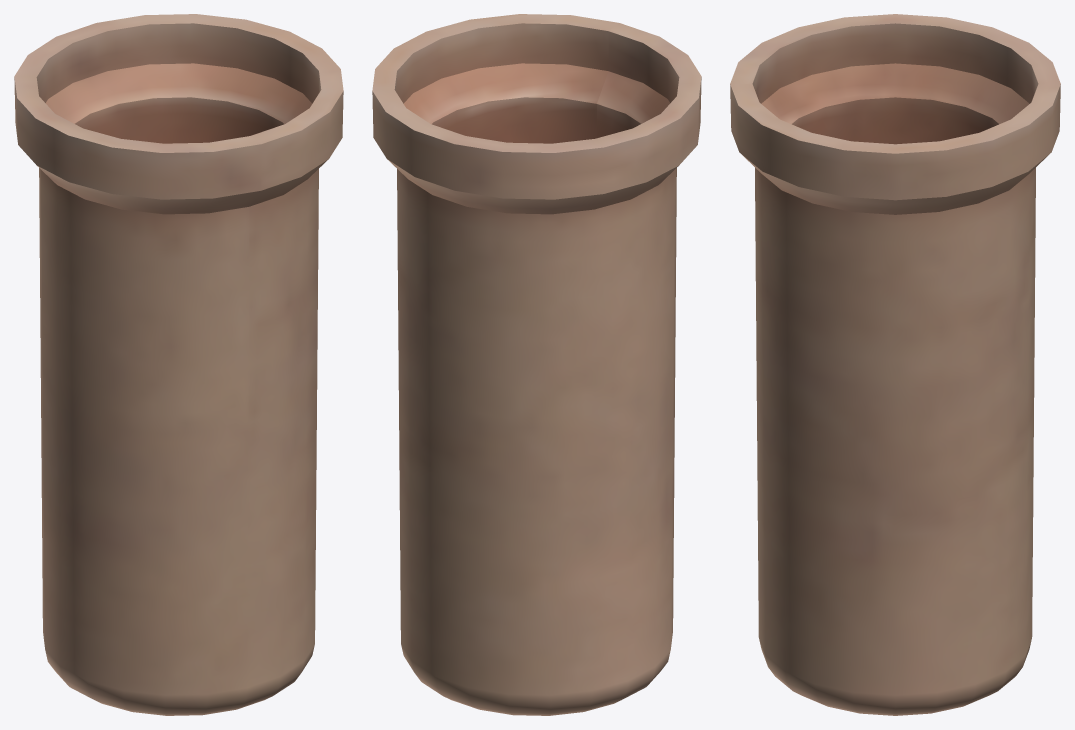
Rendered from SM_FlowerPot_09.fbx.
3 renders of one model, left to right at view 1: azimuth 30°, elevation 25°; view 2: azimuth 150°, elevation 25°; view 3: azimuth 270°, elevation 25°, orthographic.
Visible parts, largest first — view 1: SM_FlowerPot_09_LOD0; view 2: SM_FlowerPot_09_LOD0; view 3: SM_FlowerPot_09_LOD0.
Part boxes in pixels (x1,y1,x2,y2): SM_FlowerPot_09_LOD0: (14,14,343,715); SM_FlowerPot_09_LOD0: (372,14,701,715); SM_FlowerPot_09_LOD0: (730,14,1060,715).
Bounding box in the file's own units: 11.31 × 11.31 × 22.14.
